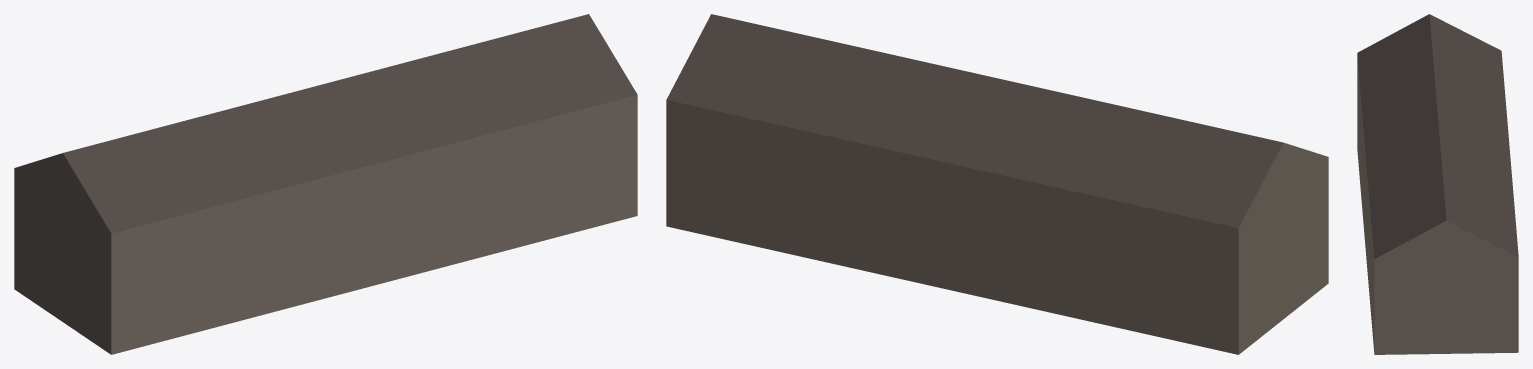
3 renders of one model, left to right at view 1: azimuth 30°, elevation 25°; view 2: azimuth 150°, elevation 25°; view 3: azimuth 270°, elevation 25°, orthographic. The views are drawn at different scales.
Parts seen in each view (by area): view 1: HP-w858807409; view 2: HP-w858807409; view 3: HP-w858807409.
Boxes of the visible parts, x1,y1,x2,y2 form: HP-w858807409: (14,14,637,354); HP-w858807409: (666,14,1328,354); HP-w858807409: (1357,14,1518,354).
Size of the model in its own units: 28.11 by 8.37 by 9.19.
